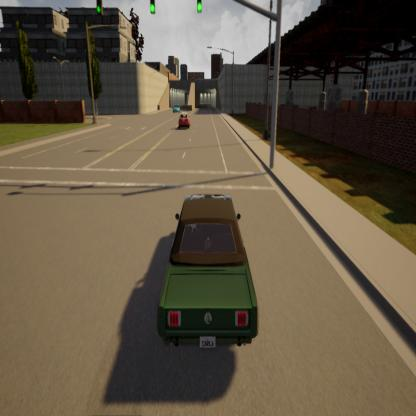Cars: (157, 192, 257, 350), (177, 115, 192, 132), (172, 101, 180, 112)
